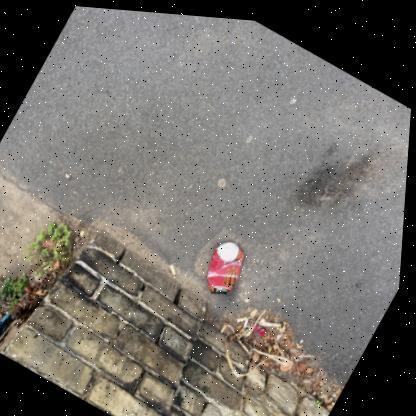Metal: (211, 238, 247, 291)
Waste: (173, 261, 179, 273), (241, 313, 251, 319), (225, 321, 231, 329), (47, 265, 53, 269), (60, 241, 63, 246)
